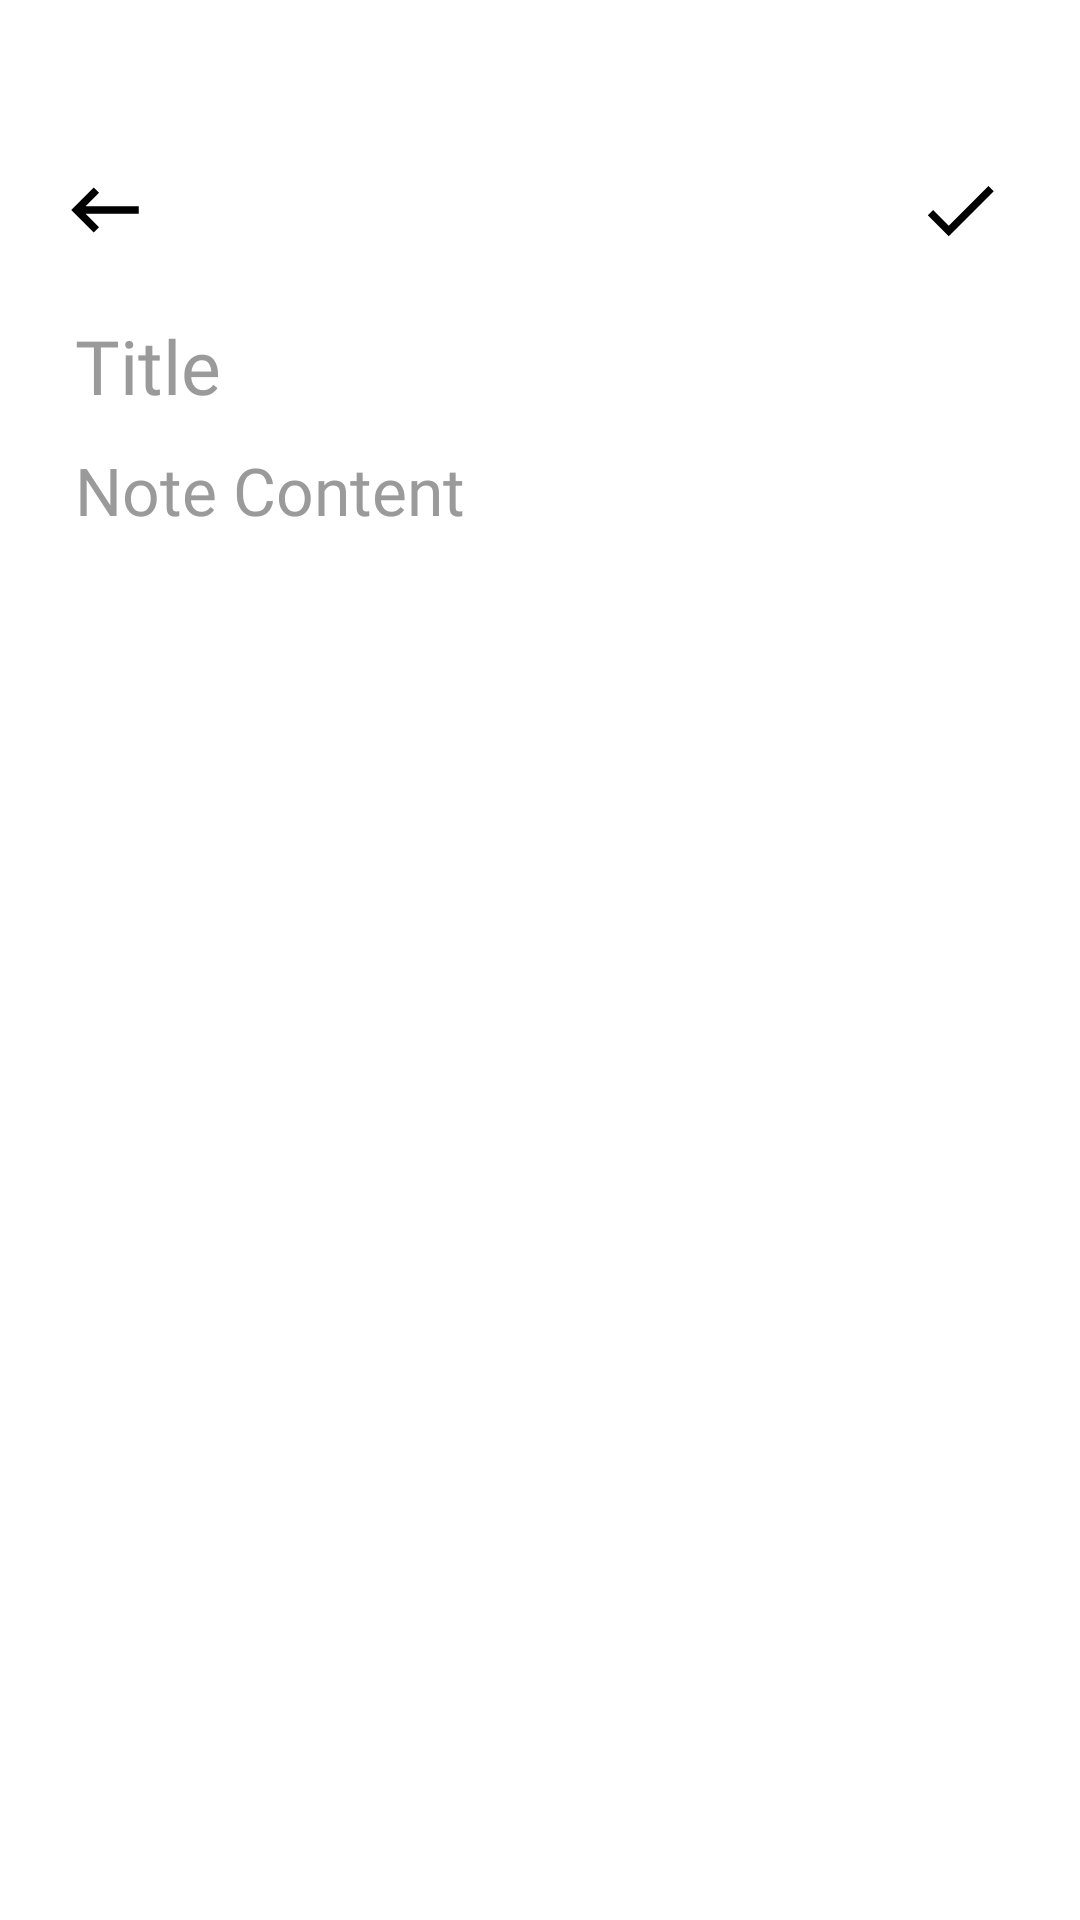

Screen size 1080w x 1920h. Icon name, then its center in pixels as [x,y]:
back arrow: [105,210]
